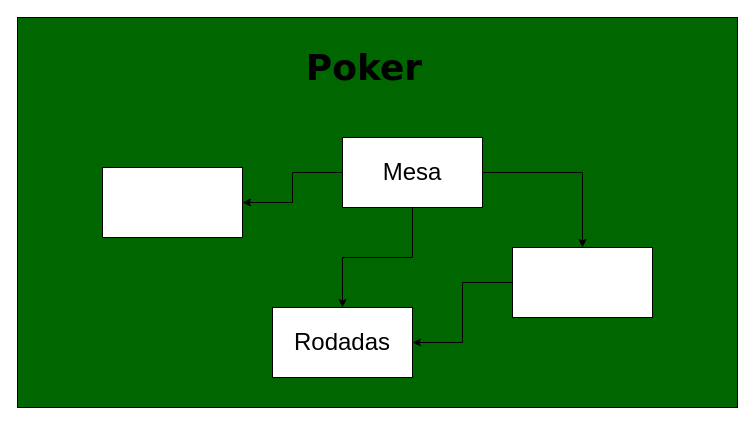
Some shapes in this 755 by 425 pixel diagram are drawn without their labels. Here are the shapes that lost their labels. From the top down, the centre of each, then its label:
[172,202]: Baralho
[582,282]: Jogadores
